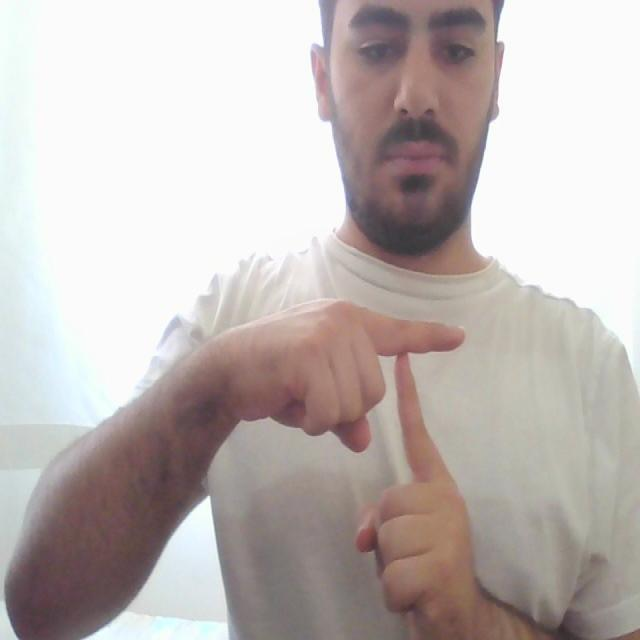Tesekkurler: (373, 305, 487, 515)
